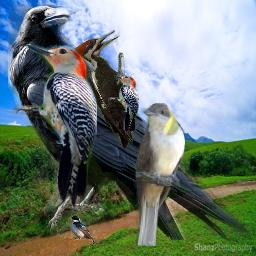Crow: (8, 4, 255, 240)
Cuckoo: (133, 103, 185, 246)
Swallow: (70, 215, 99, 247)
Woodpecker: (13, 45, 97, 208), (68, 30, 133, 149), (108, 75, 139, 135)
